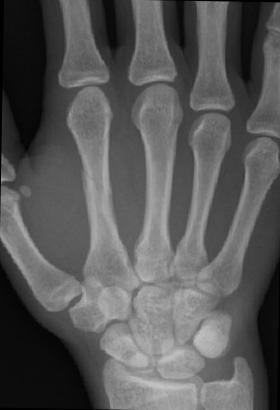fracture: (80, 166, 115, 203)
